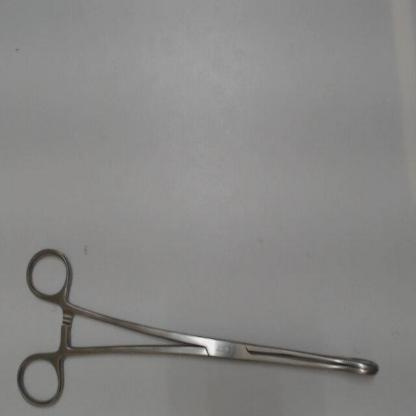Sponge Forceps: (11, 239, 391, 414)
